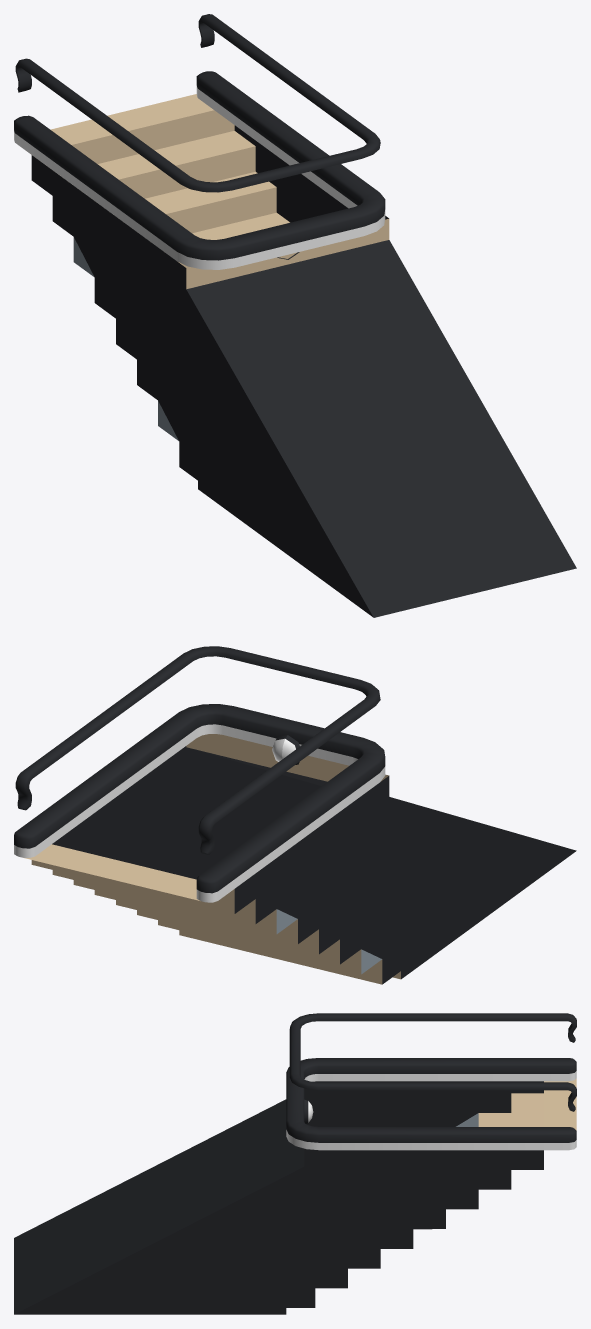
The model's file is Stairs.fbx.
3 views of the same model, one above another, from view 1: azimuth 30°, elevation 25°; view 2: azimuth 150°, elevation 25°; view 3: azimuth 270°, elevation 25° (orthographic). The views are drawn at different scales.
Visible parts, largest first — view 1: Stairs; view 2: Stairs; view 3: Stairs.
Part boxes in pixels (box(x1,y1,x2,y2)): Stairs: box(14, 14, 576, 617); Stairs: box(14, 646, 576, 984); Stairs: box(14, 1013, 576, 1314).
Bounding box in the file's own units: 250 × 345 × 776.
